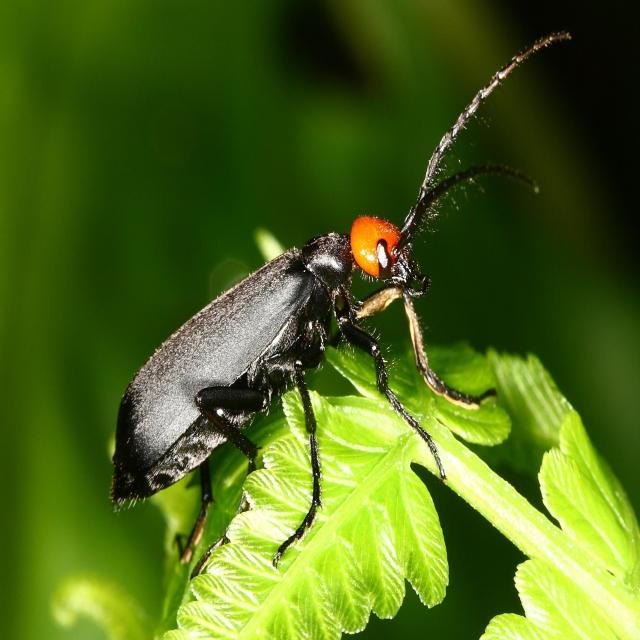BlisterBeetle-Adult-: (113, 26, 580, 536)
